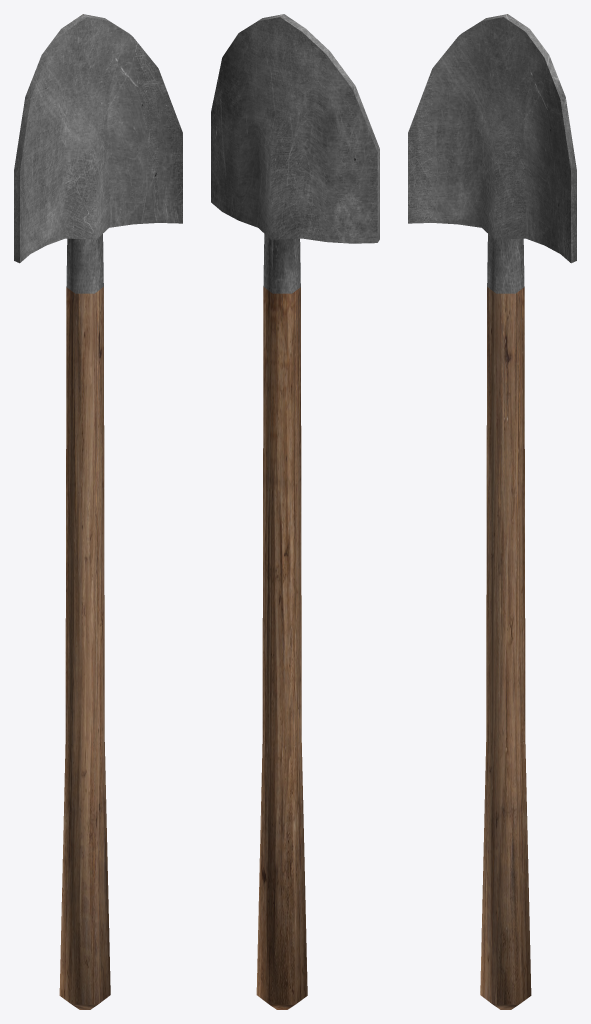
The model's file is shovel.fbx.
3 renders of one model, left to right at view 1: azimuth 30°, elevation 25°; view 2: azimuth 150°, elevation 25°; view 3: azimuth 330°, elevation 25°, orthographic.
Parts seen in each view (by area): view 1: Shovel; view 2: Shovel; view 3: Shovel.
Part boxes in pixels (x1,y1,x2,y2): Shovel: [14, 14, 182, 1009]; Shovel: [211, 14, 379, 1009]; Shovel: [408, 14, 576, 1009].
Bounding box in the file's own units: 0.274 × 1.56 × 0.0826.
